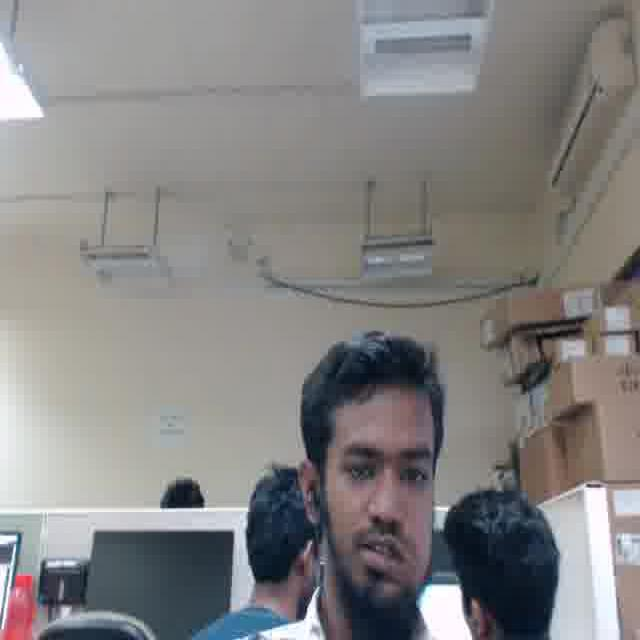Engaged: (321, 393, 433, 598)
